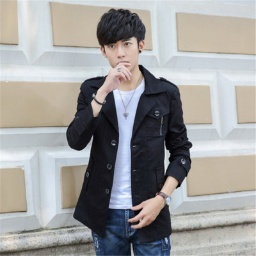face: (98, 8, 146, 74)
